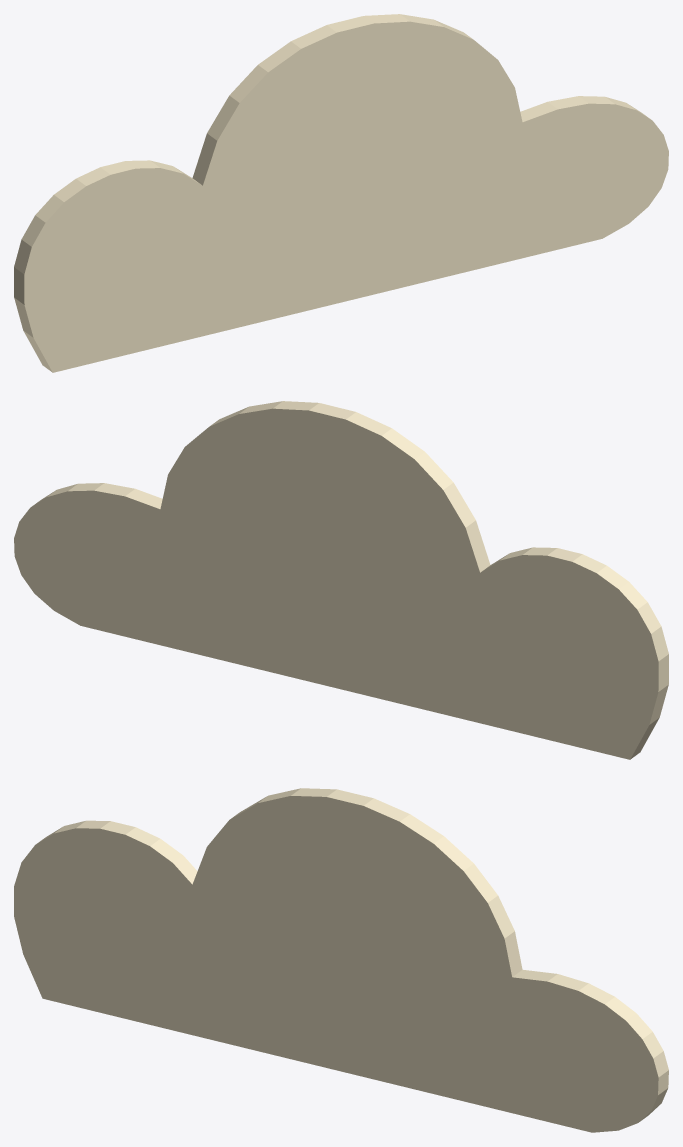
File: cloud.glb
3 renders of one model, top to bottom at view 1: azimuth 30°, elevation 25°; view 2: azimuth 150°, elevation 25°; view 3: azimuth 330°, elevation 25°, orthographic.
Parts seen in each view (by area): view 1: paper-cloud; view 2: paper-cloud; view 3: paper-cloud.
Boxes of the visible parts, <box> form: paper-cloud: <box>14,14,668,372</box>; paper-cloud: <box>14,401,668,759</box>; paper-cloud: <box>14,788,668,1132</box>.
Bounding box in the file's own units: 3.23 × 1.3 × 0.09.
